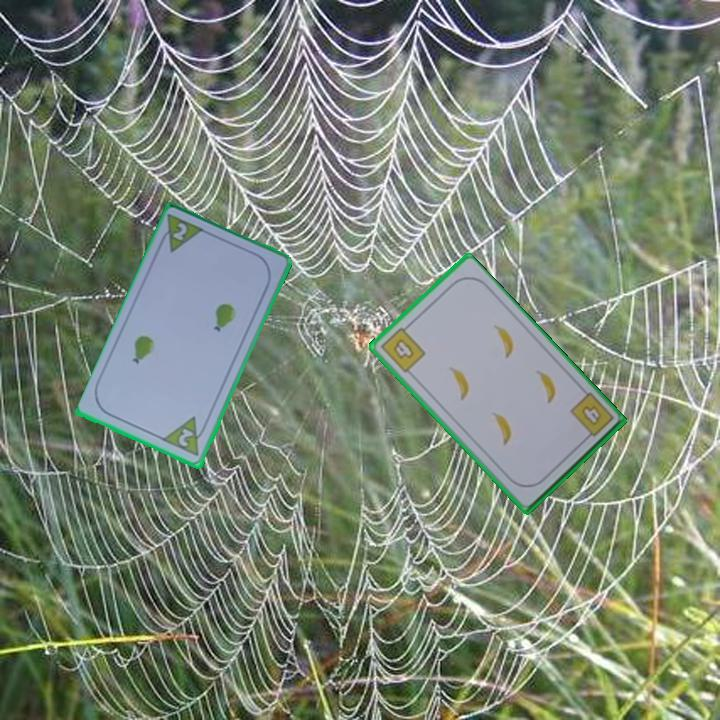2p: (154, 211, 208, 256), (175, 425, 197, 450)
4b: (377, 321, 429, 376), (567, 389, 617, 445)
